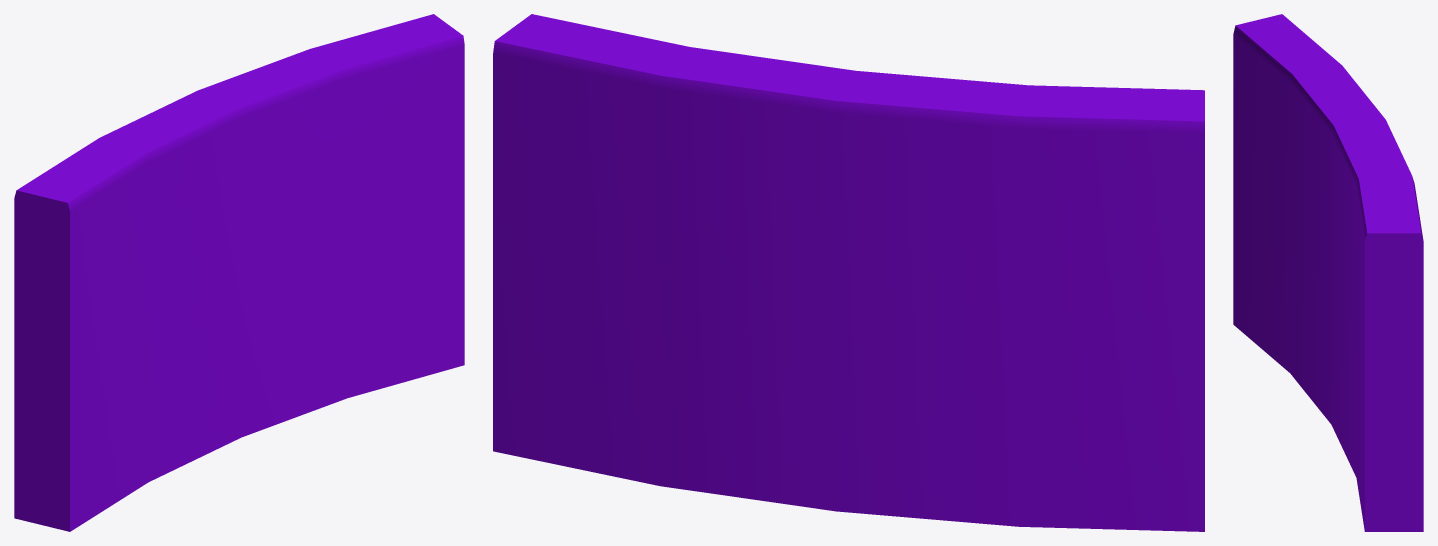
File: RampN_C_15Deg_Right_Inv.fbx
3 renders of one model, left to right at view 1: azimuth 30°, elevation 25°; view 2: azimuth 150°, elevation 25°; view 3: azimuth 270°, elevation 25°, orthographic. The views are drawn at different scales.
Parts seen in each view (by area): view 1: RampN_C_15Deg_Right_Inv; view 2: RampN_C_15Deg_Right_Inv; view 3: RampN_C_15Deg_Right_Inv.
Part boxes in pixels (x1,y1,x2,y2): RampN_C_15Deg_Right_Inv: (14,14,464,531); RampN_C_15Deg_Right_Inv: (493,14,1204,531); RampN_C_15Deg_Right_Inv: (1233,14,1423,531).
Size of the model in its own units: 4.58 by 2.91 by 1.68.
